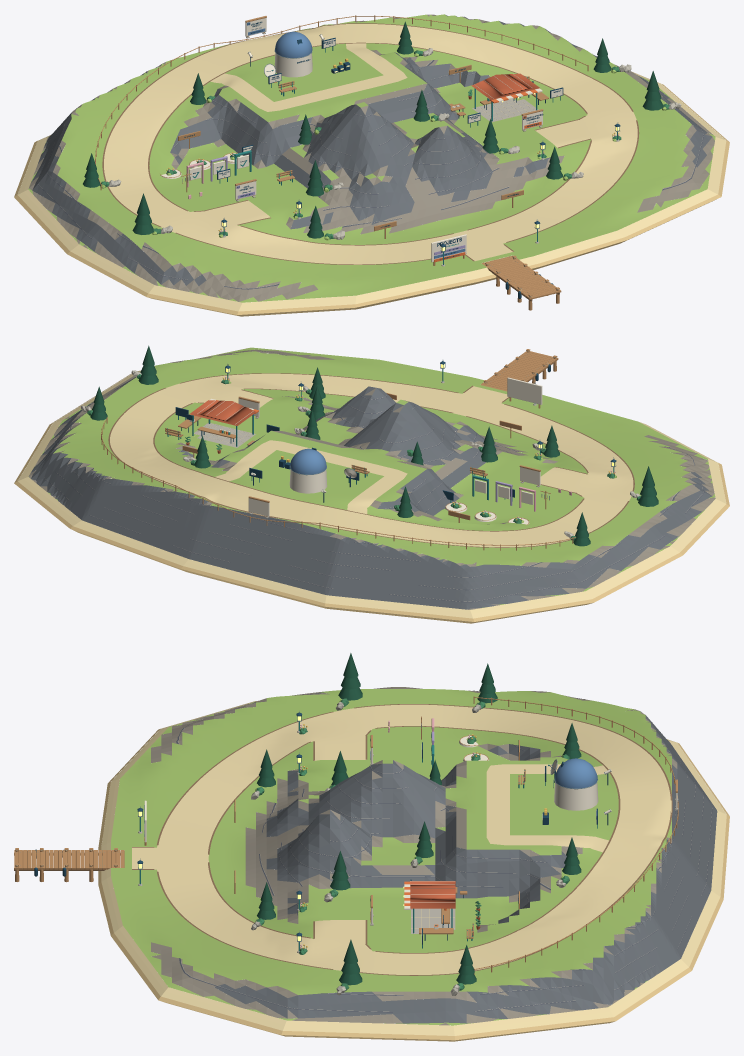
Rendered from projects.glb.
The picture shows the model from 3 angles, top to bottom: view 1: azimuth 30°, elevation 25°; view 2: azimuth 150°, elevation 25°; view 3: azimuth 270°, elevation 25°; orthographic projection. The views are drawn at different scales.
Parts seen in each view (by area): view 1: static_grass, static_sand, static_highlandsCliff, static_highlandsRock, static_sandEdge, static_wood, static_highlandsTrailEdge, static_highlandsStrataDark, occluder_catering_canopy_terracotta, district_catering_stone, static_stone, occluder_research_dome_blue (+4 smaller); view 2: static_grass, static_highlandsCliff, static_sand, static_highlandsRock, static_sandEdge, static_wood, static_highlandsTrailEdge, static_highlandsStrataDark, occluder_catering_canopy_terracotta, static_highlandsStrataLight, occluder_research_dome_blue, district_catering_stone (+6 smaller); view 3: static_grass, static_sand, static_highlandsCliff, static_highlandsRock, static_sandEdge, static_wood, static_highlandsTrailEdge, static_highlandsStrataDark, occluder_catering_canopy_terracotta, static_highlandsStrataLight, occluder_research_dome_blue, occluder_research_observatory_ivory (+5 smaller).
Part boxes in pixels (box(x1,y1,x2,y2)): static_grass: box(28, 14, 715, 302); static_sand: box(17, 24, 726, 311); static_highlandsCliff: box(31, 15, 712, 285); static_highlandsRock: box(29, 14, 714, 301); static_sandEdge: box(14, 84, 729, 316); static_wood: box(95, 15, 588, 310); static_highlandsTrailEdge: box(102, 23, 639, 264); static_highlandsStrataDark: box(37, 16, 703, 289); occluder_catering_canopy_terracotta: box(471, 73, 539, 99); district_catering_stone: box(472, 99, 538, 121); static_stone: box(108, 48, 681, 266); occluder_research_dome_blue: box(275, 31, 312, 57); static_grass: box(42, 347, 715, 607); static_highlandsCliff: box(31, 377, 712, 609); static_sand: box(18, 348, 726, 618); static_highlandsRock: box(28, 349, 715, 609); static_sandEdge: box(14, 373, 729, 623); static_wood: box(101, 349, 575, 550); static_highlandsTrailEdge: box(108, 373, 634, 547); static_highlandsStrataDark: box(42, 350, 704, 602); occluder_catering_canopy_terracotta: box(189, 400, 256, 425); static_highlandsStrataLight: box(44, 352, 703, 601); occluder_research_dome_blue: box(290, 448, 326, 474); district_catering_stone: box(194, 422, 255, 447); static_grass: box(111, 689, 671, 1025); static_sand: box(101, 700, 726, 1035); static_highlandsCliff: box(214, 702, 717, 1023); static_highlandsRock: box(151, 687, 677, 1025); static_sandEdge: box(98, 729, 729, 1041); static_wood: box(14, 696, 678, 974); static_highlandsTrailEdge: box(132, 704, 672, 975); static_highlandsStrataDark: box(176, 690, 712, 1012); occluder_catering_canopy_terracotta: box(410, 881, 455, 908); static_highlandsStrataLight: box(177, 691, 712, 1011); occluder_research_dome_blue: box(554, 758, 597, 788); occluder_research_observatory_ivory: box(554, 782, 598, 810).
Bounding box in the file's own units: 78 × 11.49 × 68.
